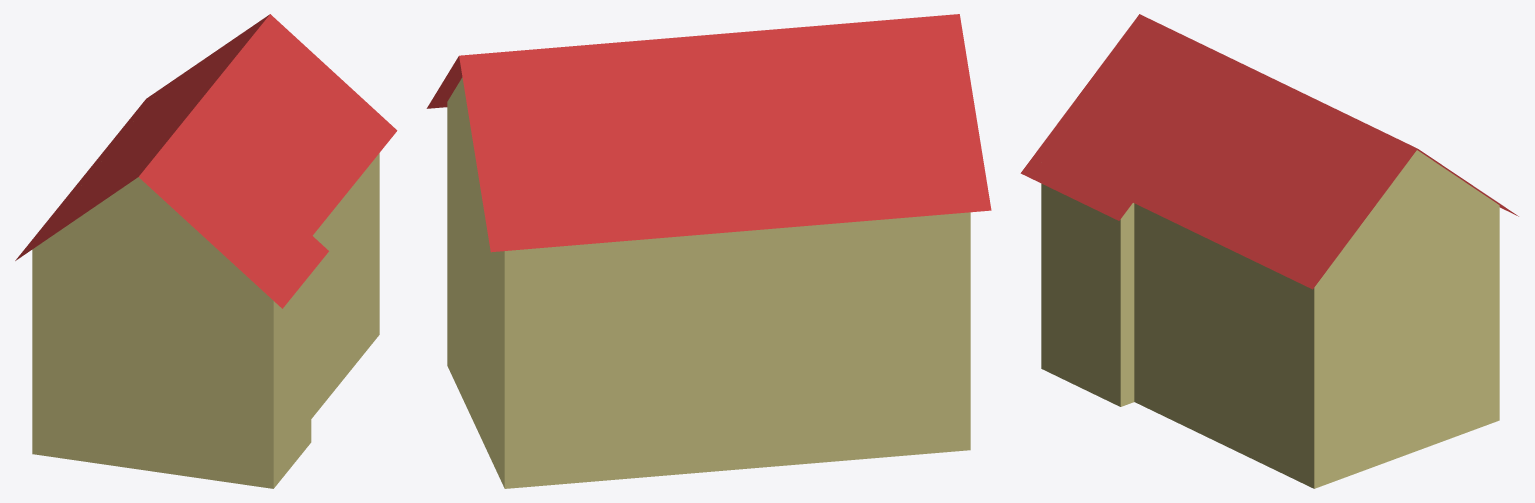
3 renders of one model, left to right at view 1: azimuth 30°, elevation 25°; view 2: azimuth 150°, elevation 25°; view 3: azimuth 270°, elevation 25°, orthographic. The views are drawn at different scales.
Bounding box in the file's own units: 16.94 × 16.93 × 11.59.
